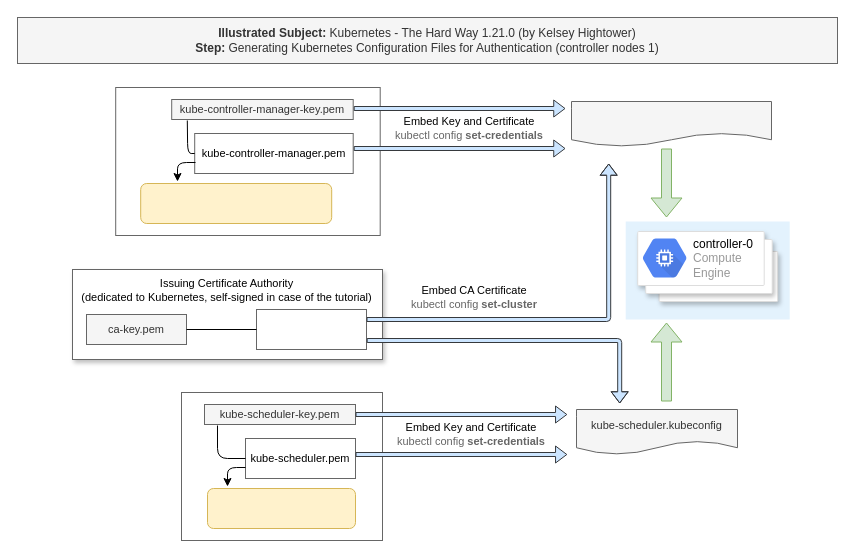
Some shapes in this 855 by 558 pixel diagram are drawn without their labels. The shapes that lost their labels are listed below. From the top down, each one's centre as x and y in pixels, then its label:
the point at 671,123: kube-controller-manager.kubeconfig
the point at 236,203: CN: system:kube-controller-manager
the point at 311,329: ca.pem
the point at 281,508: CN: system:kube-scheduler
